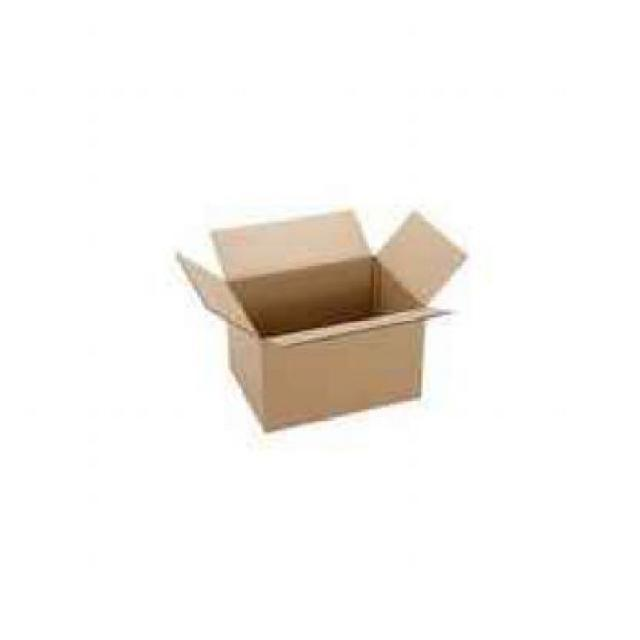box: (181, 211, 451, 433)
